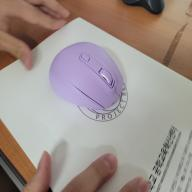mouse: (48, 41, 124, 110)
